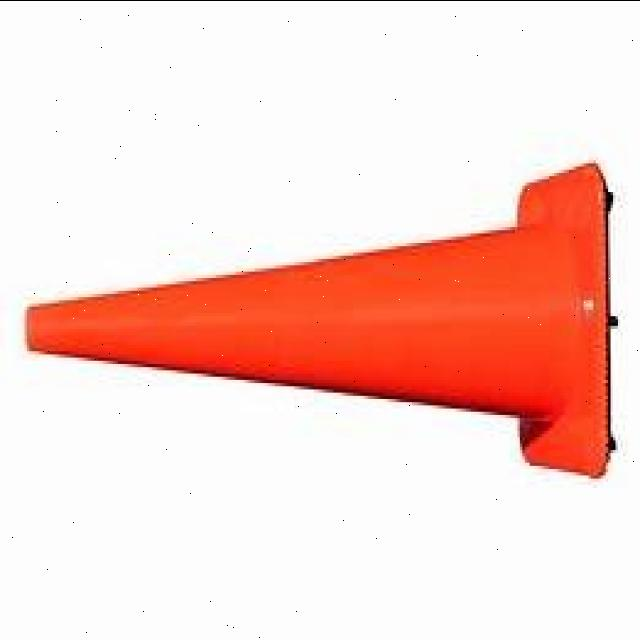traffic cone: (16, 150, 631, 495)
